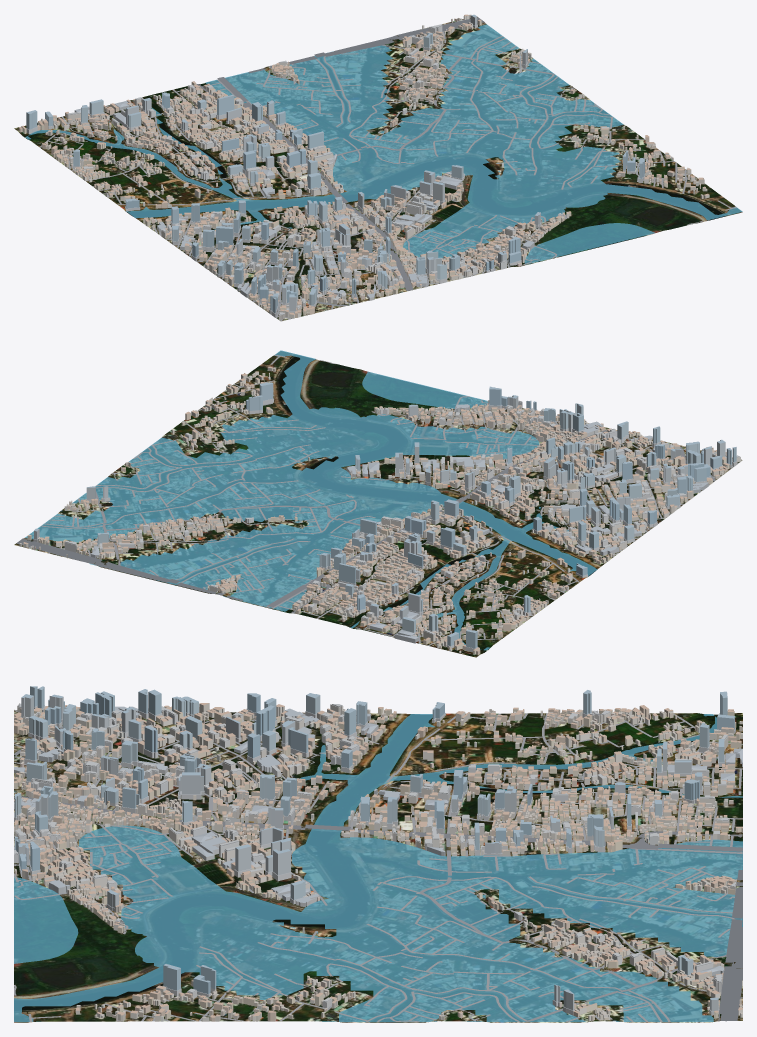
3 views of the same model, one above another, from view 1: azimuth 30°, elevation 25°; view 2: azimuth 150°, elevation 25°; view 3: azimuth 270°, elevation 25° (orthographic). The views are drawn at different scales.
Parts seen in each view (by area): view 1: TERRAIN, WATER, BLDG_SHOPHOUSE, BLDG_MODERN_TOWER, ROAD_METRO, BLDG_TUBE_HOUSE, BLDG_APARTMENT, BLDG_INDUSTRIAL_PORT; view 2: TERRAIN, WATER, BLDG_SHOPHOUSE, BLDG_MODERN_TOWER, ROAD_METRO, BLDG_TUBE_HOUSE, BLDG_APARTMENT, BLDG_INDUSTRIAL_PORT; view 3: TERRAIN, WATER, BLDG_SHOPHOUSE, BLDG_MODERN_TOWER, ROAD_METRO, BLDG_TUBE_HOUSE, BLDG_APARTMENT, BLDG_INDUSTRIAL_PORT.
Boxes of the visible parts, bbox=[...] form: TERRAIN: bbox=[14, 17, 742, 321]; WATER: bbox=[25, 24, 742, 264]; BLDG_SHOPHOUSE: bbox=[18, 14, 709, 318]; BLDG_MODERN_TOWER: bbox=[26, 14, 645, 317]; ROAD_METRO: bbox=[39, 17, 736, 321]; BLDG_TUBE_HOUSE: bbox=[40, 14, 707, 317]; BLDG_APARTMENT: bbox=[67, 24, 639, 319]; BLDG_INDUSTRIAL_PORT: bbox=[74, 35, 534, 300]; TERRAIN: bbox=[14, 351, 742, 657]; WATER: bbox=[25, 350, 597, 650]; BLDG_SHOPHOUSE: bbox=[23, 366, 732, 654]; BLDG_MODERN_TOWER: bbox=[33, 382, 737, 652]; ROAD_METRO: bbox=[16, 354, 742, 645]; BLDG_TUBE_HOUSE: bbox=[19, 367, 727, 653]; BLDG_APARTMENT: bbox=[64, 400, 740, 641]; BLDG_INDUSTRIAL_PORT: bbox=[90, 404, 708, 643]; TERRAIN: bbox=[14, 709, 742, 1022]; WATER: bbox=[14, 714, 742, 1021]; BLDG_SHOPHOUSE: bbox=[14, 703, 742, 1021]; BLDG_MODERN_TOWER: bbox=[14, 686, 735, 1015]; ROAD_METRO: bbox=[14, 710, 742, 1021]; BLDG_TUBE_HOUSE: bbox=[14, 709, 742, 1021]; BLDG_APARTMENT: bbox=[14, 703, 735, 1007]; BLDG_INDUSTRIAL_PORT: bbox=[14, 706, 742, 975].
Bounding box in the file's own units: 2000 × 94.37 × 2000.
Materials: 8 (1 with a texture image).
